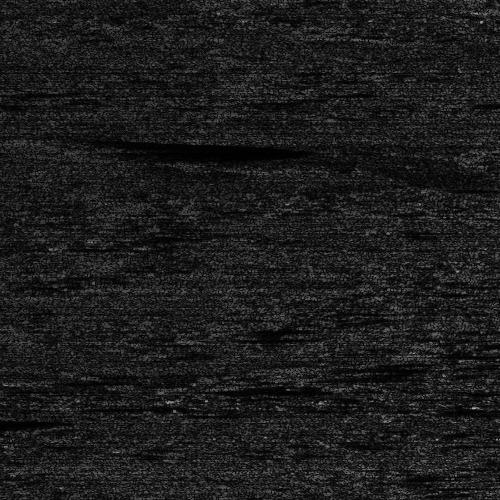rock: (20, 137, 103, 160), (263, 364, 326, 369), (3, 378, 66, 383)
shadow: (62, 137, 276, 160), (35, 378, 168, 383), (295, 364, 390, 369), (0, 415, 24, 428)
